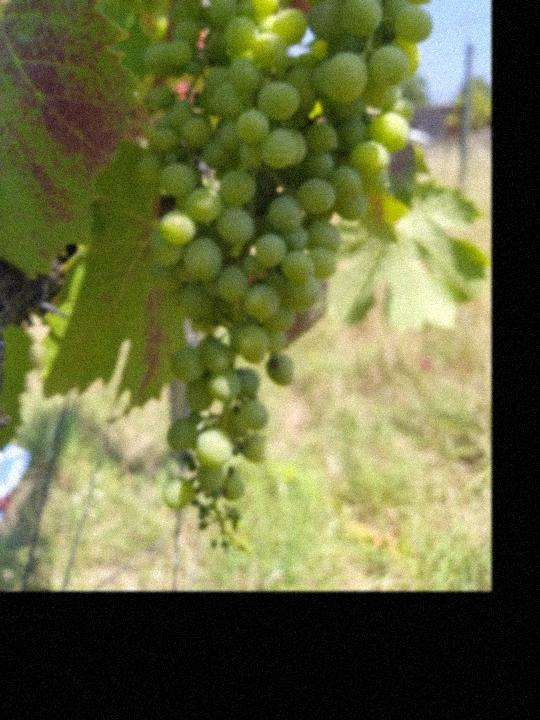grape: (128, 0, 452, 557)
